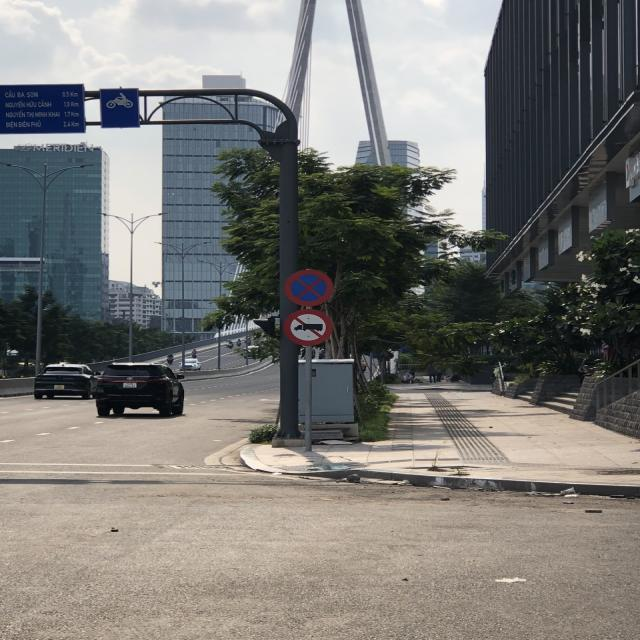Bien bao cam dung xe va do xe: (278, 266, 350, 308)
Bien bao cam xe so-mi ro-mooc: (279, 309, 340, 347)
